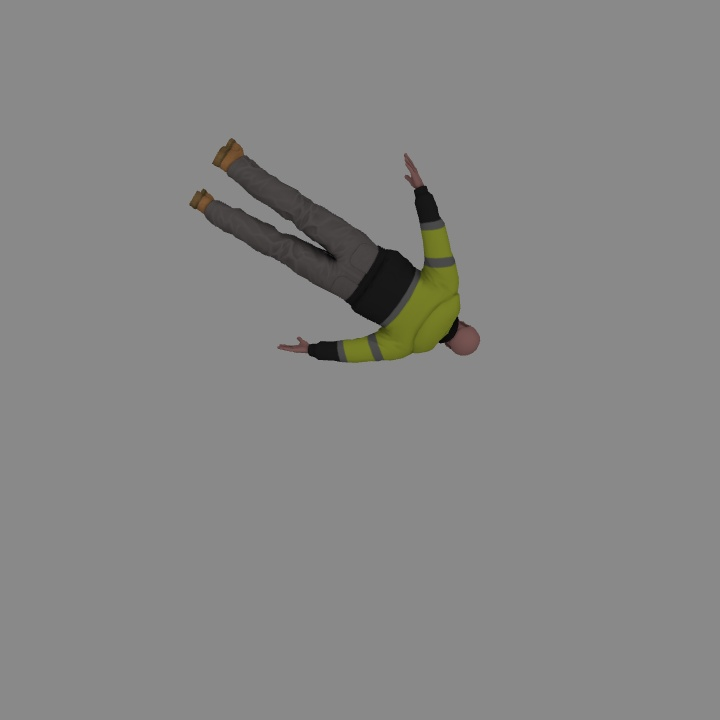victim: (197, 141, 481, 361)
